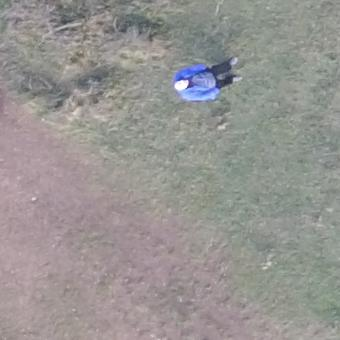human: (172, 55, 244, 106)
